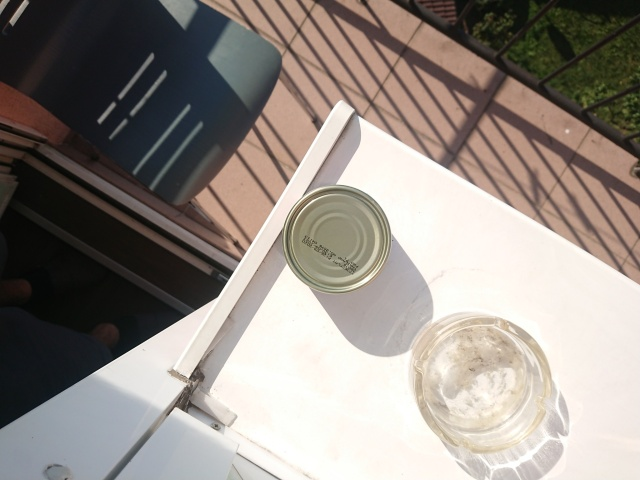Giana Tuna Salad Mexico 185g: (277, 181, 394, 298)
